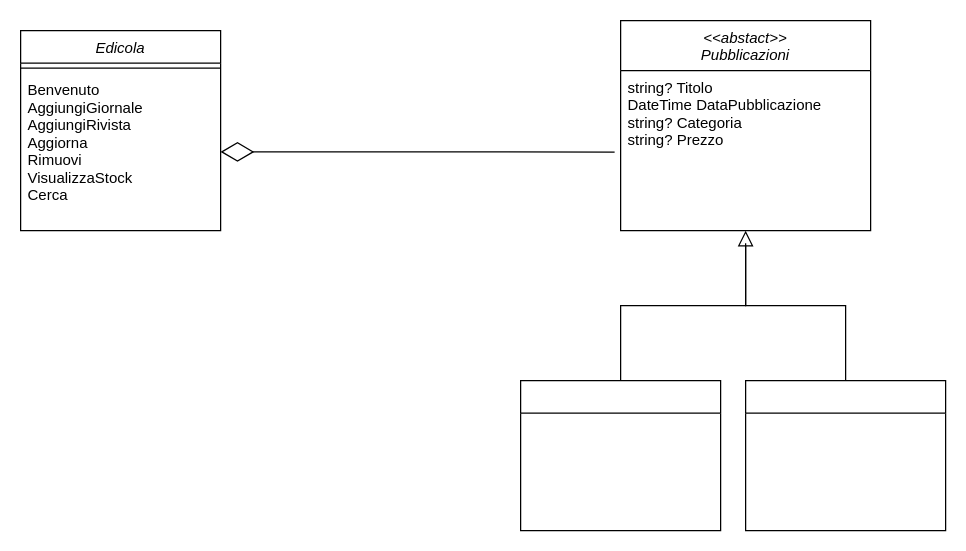
Some shapes in this 966 by 551 pixel diagram are drawn without their labels. Here are the shapes that lost their labels. From the top down, the centre of each, then its label:
At (x=620, y=455): "Rivista".
At (x=845, y=455): "Giornale".
